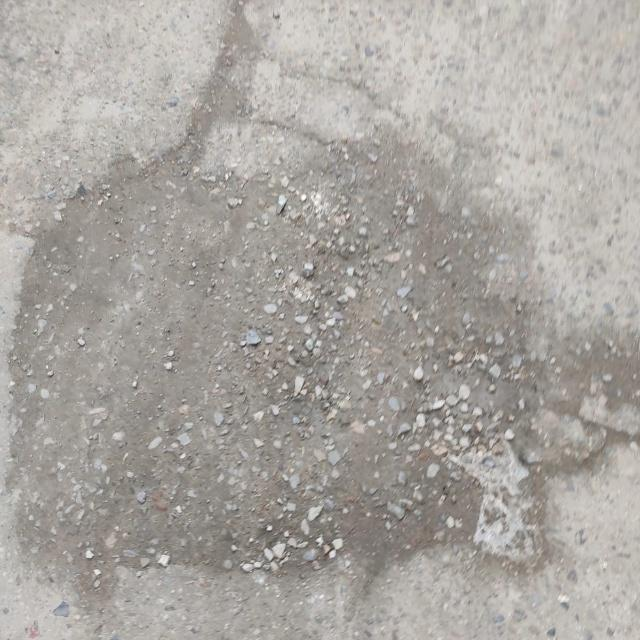Surface Erosion: (43, 12, 520, 640)
